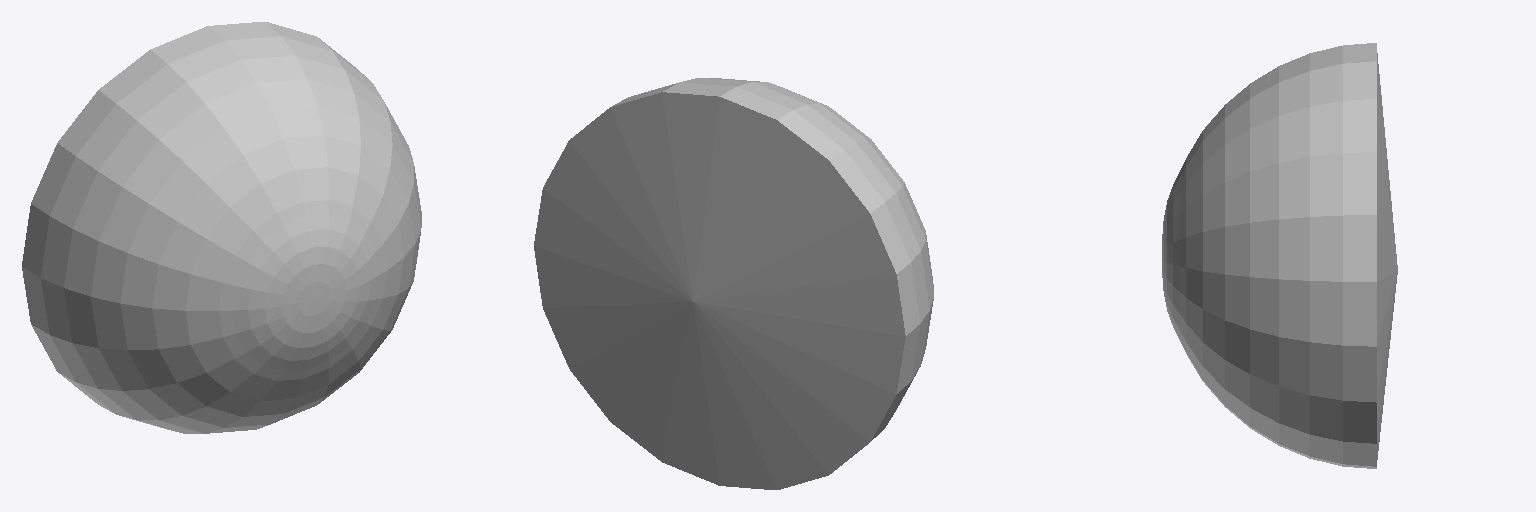
The model's file is eye_left_CBC.obj.
3 renders of one model, left to right at view 1: azimuth 30°, elevation 25°; view 2: azimuth 150°, elevation 25°; view 3: azimuth 270°, elevation 25°, orthographic.
Bounding box in the file's own units: 1.98 × 1.98 × 1.09.